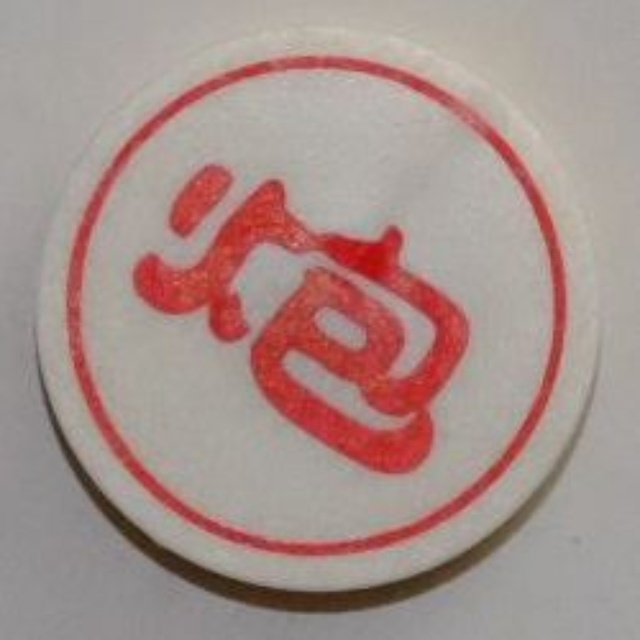red_phao: (35, 23, 616, 595)
